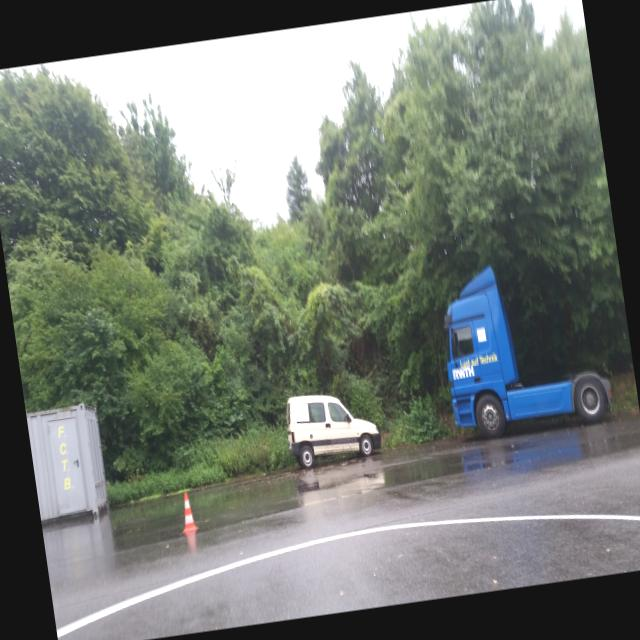large_orange_cone: (178, 492, 198, 532)
